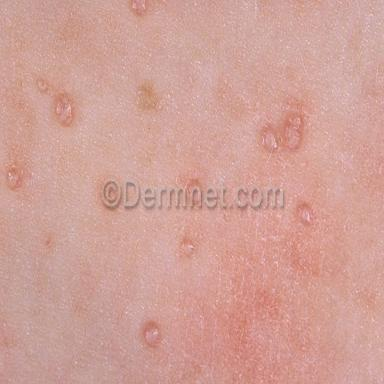Molluscum-Contagiosum: (283, 114, 304, 149), (55, 92, 74, 126), (137, 84, 157, 110), (260, 124, 278, 152), (143, 322, 161, 346), (7, 165, 22, 190), (297, 202, 313, 223), (180, 238, 195, 258), (132, 0, 146, 15), (36, 78, 48, 92)
